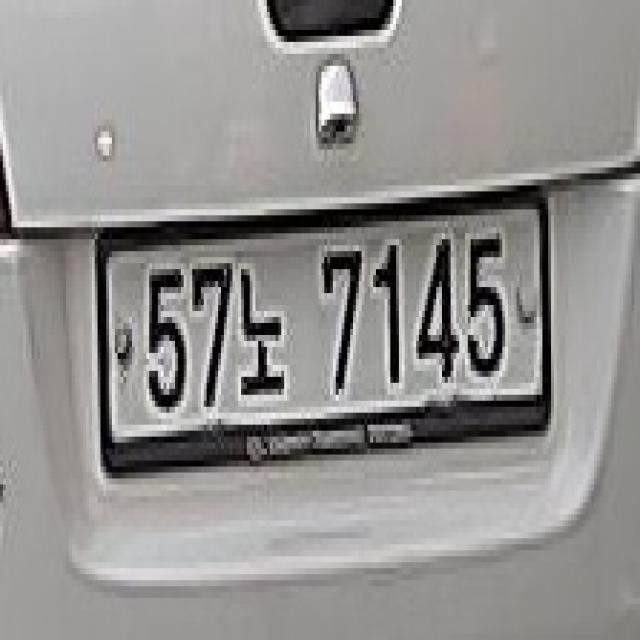1: (370, 242, 410, 386)
4: (414, 235, 459, 384)
5: (143, 256, 188, 413), (466, 223, 509, 380)
7: (192, 253, 234, 413), (321, 240, 364, 396)
license_plate: (88, 170, 562, 504)
no: (238, 250, 289, 410)
